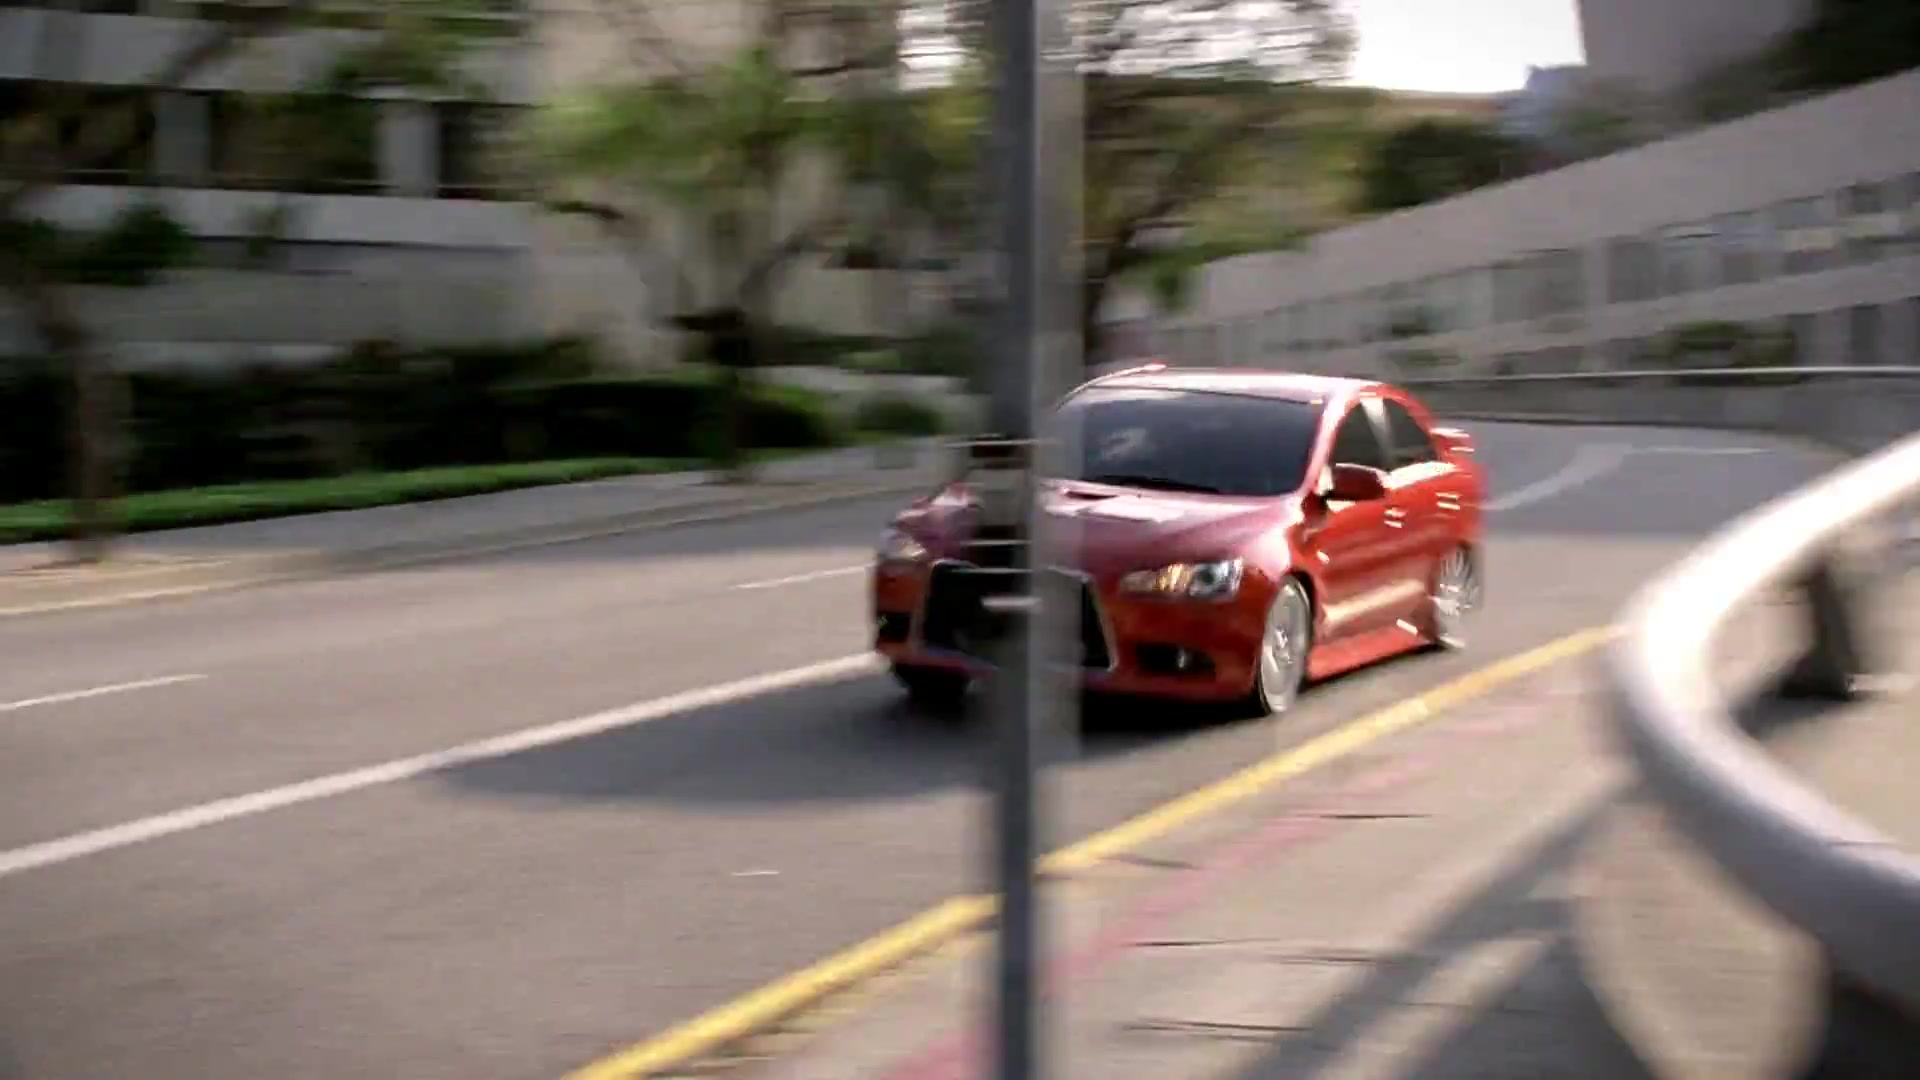car: (855, 359, 1495, 728)
